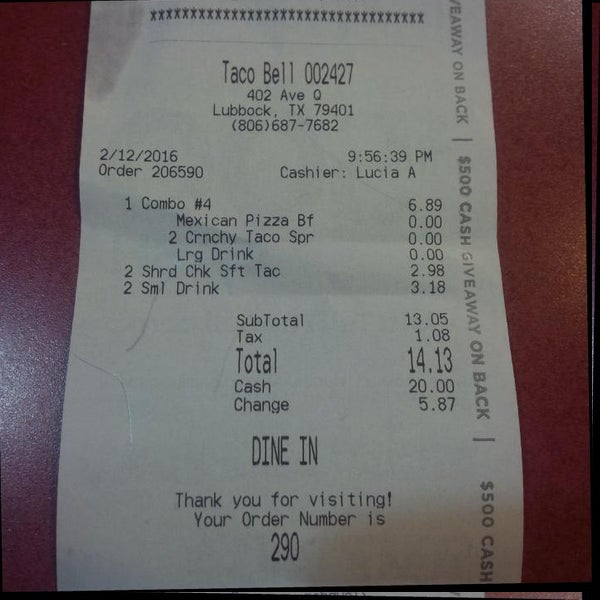Taco Bell: (218, 52, 300, 87)
